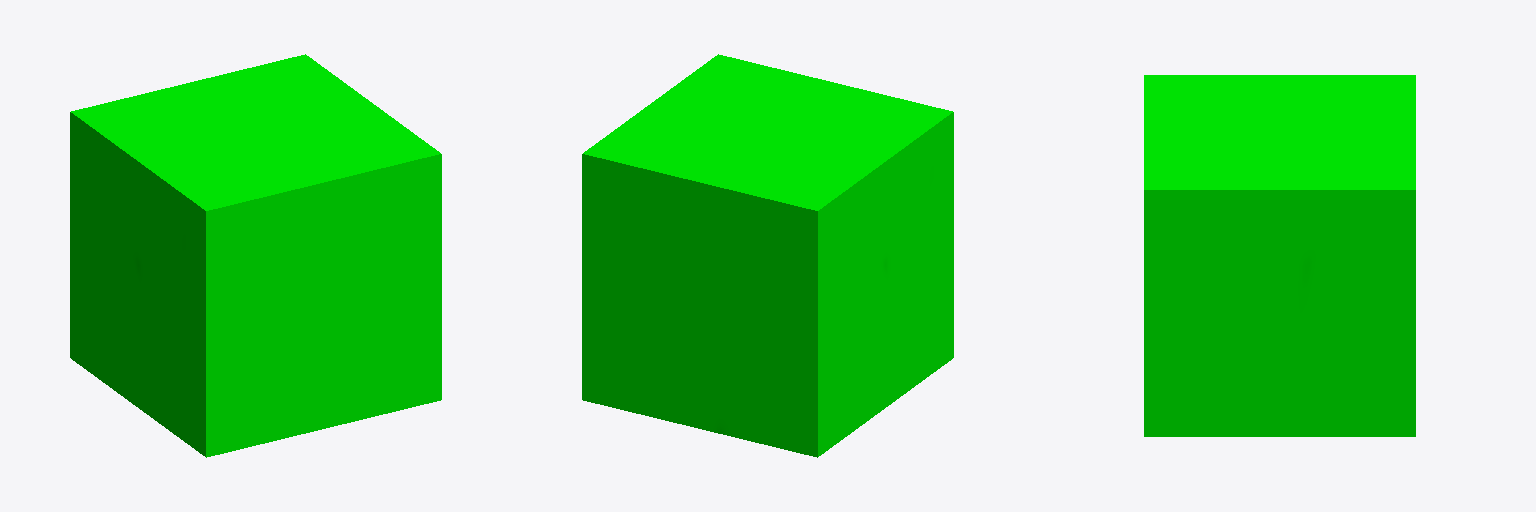
The picture shows the model from 3 angles: view 1: azimuth 30°, elevation 25°; view 2: azimuth 150°, elevation 25°; view 3: azimuth 270°, elevation 25°; orthographic projection.
Visible parts, largest first — view 1: Cube; view 2: Cube; view 3: Cube.
Part boxes in pixels (x1,y1,x2,y2): Cube: (70, 54, 441, 457); Cube: (582, 54, 953, 457); Cube: (1144, 75, 1415, 436).
Size of the model in its own units: 3 by 3 by 3.
Materials: 1 (1 with a texture image).